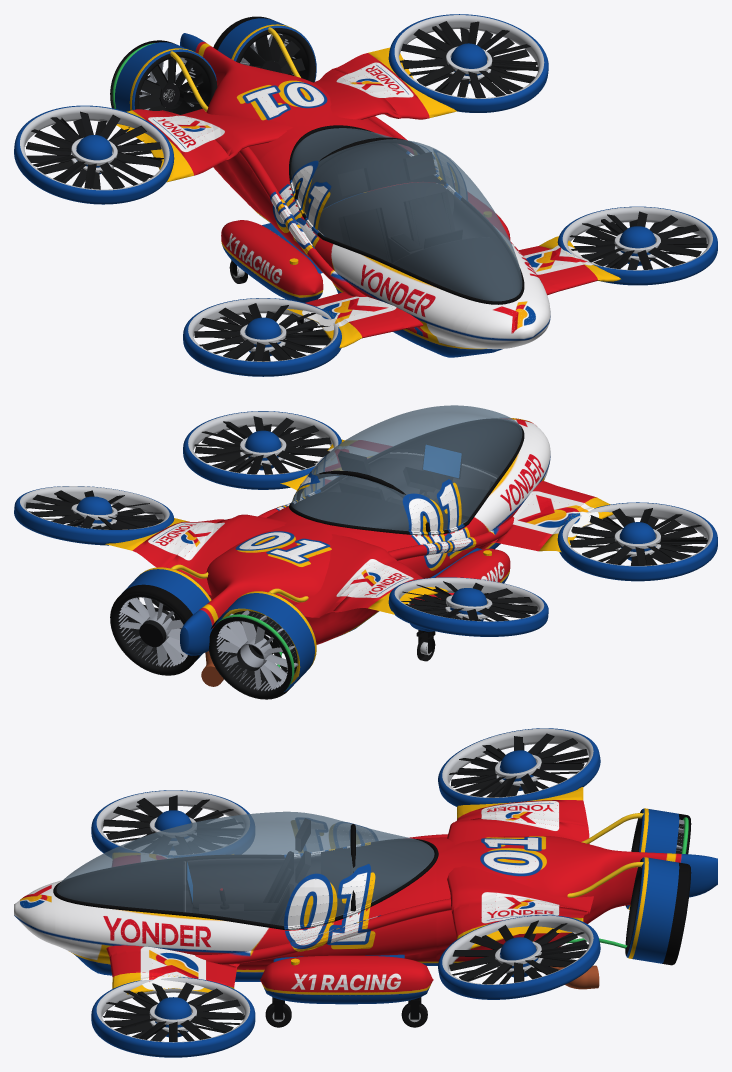
Rendered from X1_yonder.glb.
The picture shows the model from 3 angles, top to bottom: view 1: azimuth 30°, elevation 25°; view 2: azimuth 150°, elevation 25°; view 3: azimuth 270°, elevation 25°; orthographic projection. The views are drawn at different scales.
Parts seen in each view (by area): view 1: Canopy, Body, Cockpit_Deck, Duct_RR, Duct_RL, Duct_FR, Duct_FL, Sponson_R, Cockpit_Tub, Rotor_RR_Upper, Rotor_RL_Upper, Thruster_R (+33 smaller); view 2: Canopy, Body, Cockpit_Deck, Thruster_R, Duct_FR, Thruster_L, Duct_RR, Duct_FL, Duct_RL, OPF_Fan_HX_R, Rear_Wing_Stub_R, Rotor_FL_Upper (+34 smaller); view 3: Canopy, Body, Cockpit_Deck, Sponson_L, Duct_RL, Thruster_L, Duct_FL, Duct_RR, Canopy__decal_num_side, Duct_FR, Cockpit_Tub, Canopy_Frame (+32 smaller).
Part boxes in pixels (x1,y1,x2,y2): Canopy: (291,128,522,301); Body: (180,33,550,357); Cockpit_Deck: (293,128,520,301); Duct_RR: (14,105,174,204); Duct_RL: (388,14,548,112); Duct_FR: (183,298,341,376); Duct_FL: (557,206,717,285); Sponson_R: (221,220,323,302); Cockpit_Tub: (318,182,497,243); Rotor_RR_Upper: (25,111,162,188); Rotor_RL_Upper: (401,21,537,98); Thruster_R: (110,40,217,111); Canopy: (291,405,522,530); Body: (180,420,550,655); Cockpit_Deck: (293,421,520,530); Thruster_R: (209,591,316,699); Duct_FR: (557,502,717,581); Thruster_L: (110,567,211,675); Duct_RR: (388,577,548,636); Duct_FL: (183,411,341,489); Duct_RL: (14,486,174,545); OPF_Fan_HX_R: (216,608,300,690); Rear_Wing_Stub_R: (294,534,397,617); Rotor_FL_Upper: (194,416,331,474); Canopy: (56,811,434,925); Body: (14,836,717,981); Cockpit_Deck: (57,841,434,916); Sponson_L: (260,955,433,1004); Duct_RL: (438,915,600,999); Thruster_L: (625,857,691,965); Duct_FL: (91,977,255,1057); Duct_RR: (438,728,600,806); Canopy__decal_num_side: (284,818,377,926); Duct_FR: (91,790,254,857); Cockpit_Tub: (183,855,320,921); Canopy_Frame: (53,824,438,929).
Bounding box in the file's own units: 4.72 × 1.34 × 5.48.
Materials: 47 (10 with a texture image).
